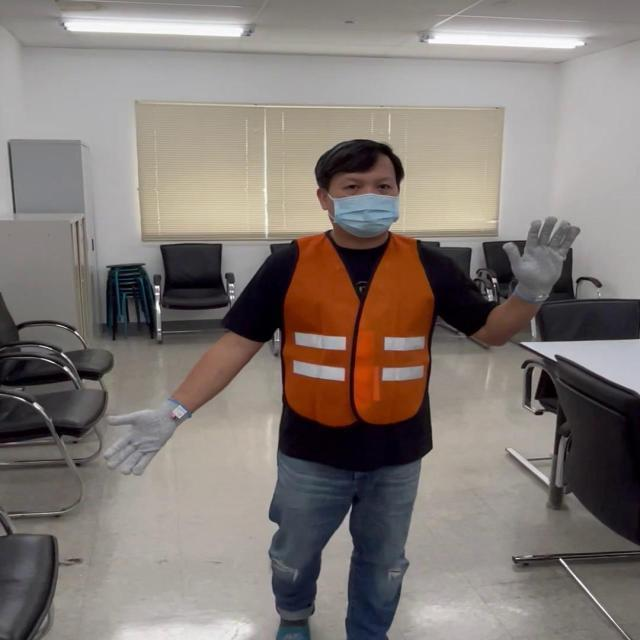gloved_hand: (498, 213, 582, 307), (107, 393, 197, 477)
